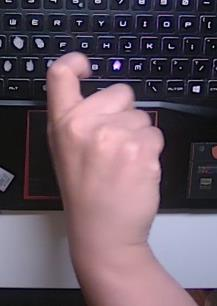anticlockwise: (39, 43, 170, 248)
